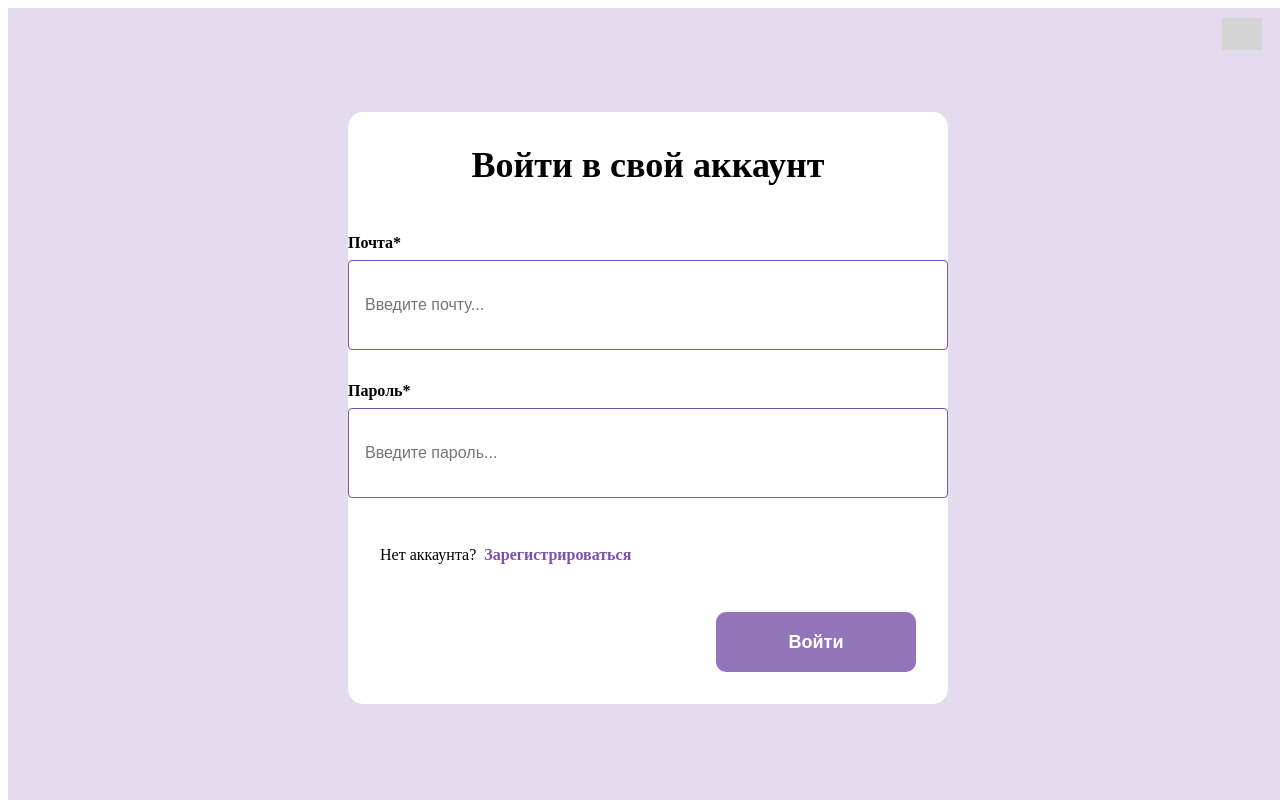
Testing SignIn SUCCESS › submit sign-in form with only password
Type "12121992" into the password field labelled "Пароль*" at (648, 453), box [348,408,948,498]
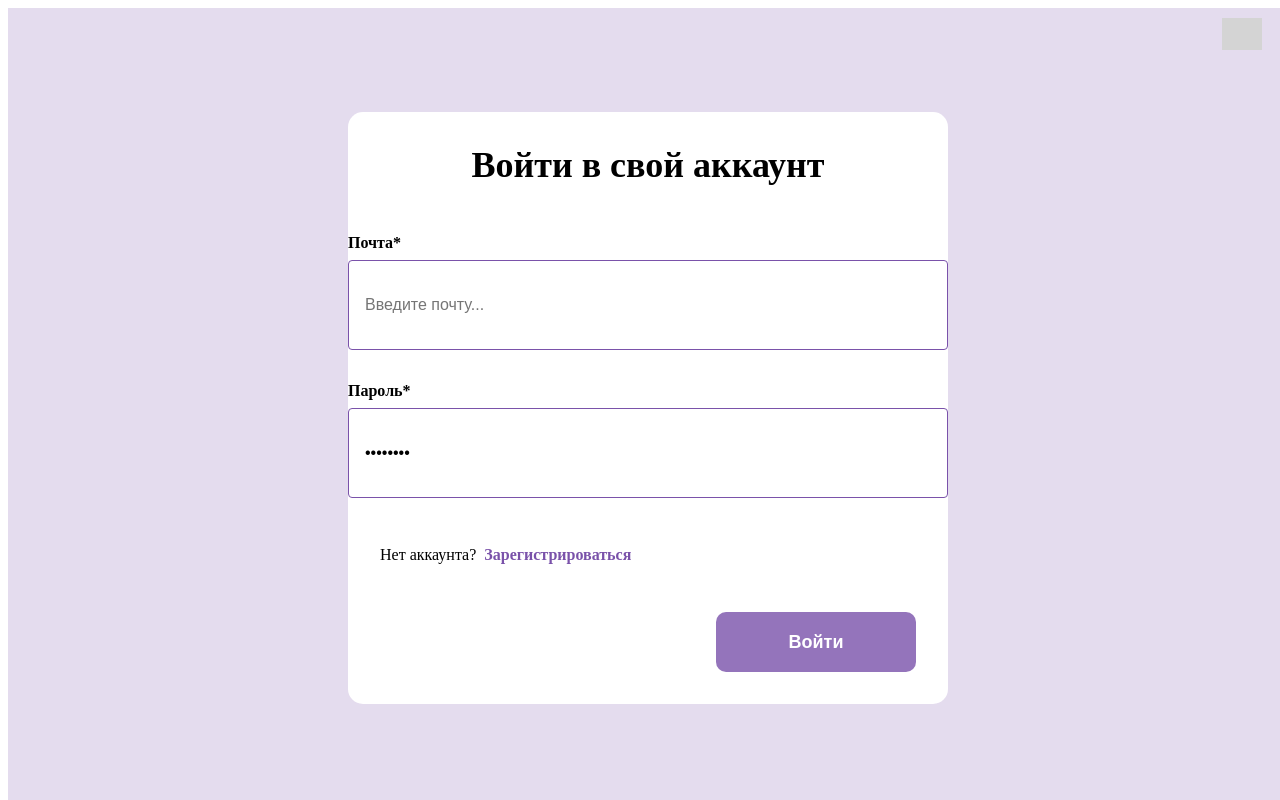
Submit the form from the element with test id "signin-form", box [316,234,980,498]
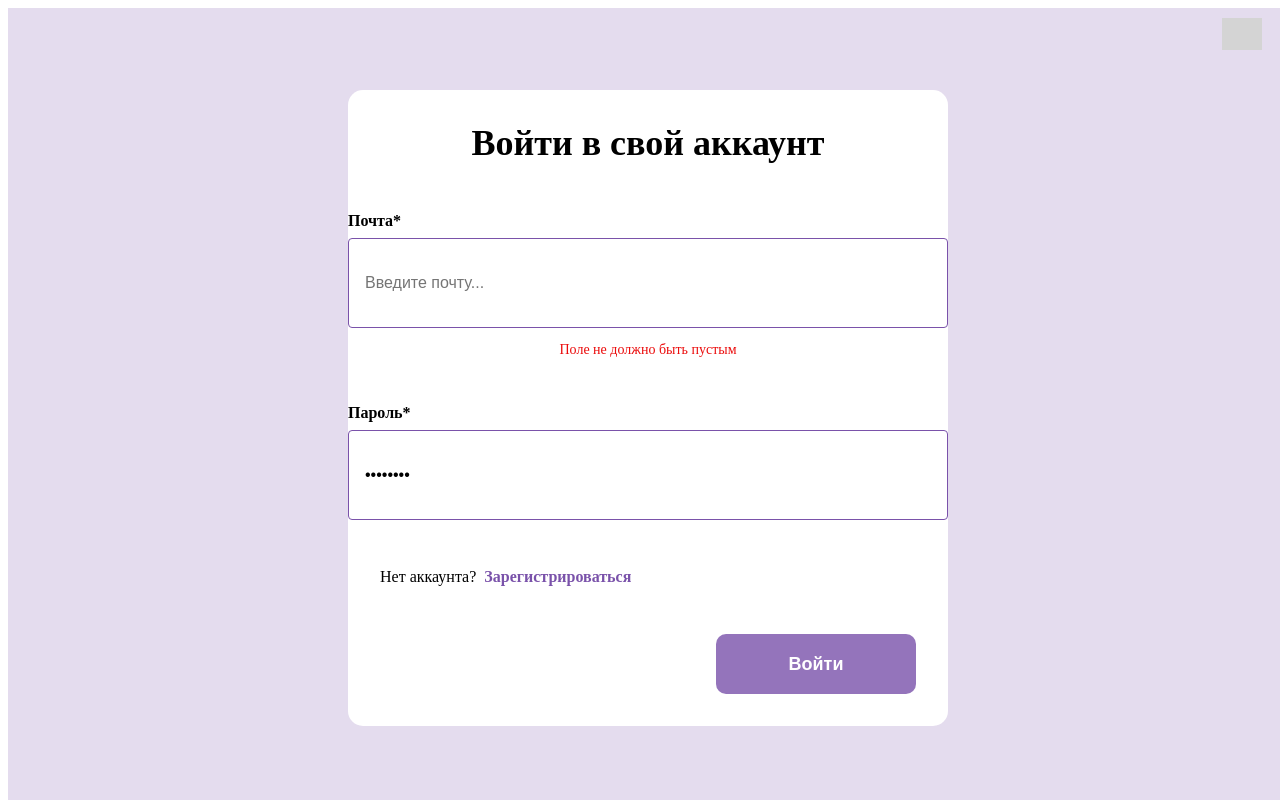
Check: the text "Поле не должно быть пустым" is shown, box [560,342,736,358]
